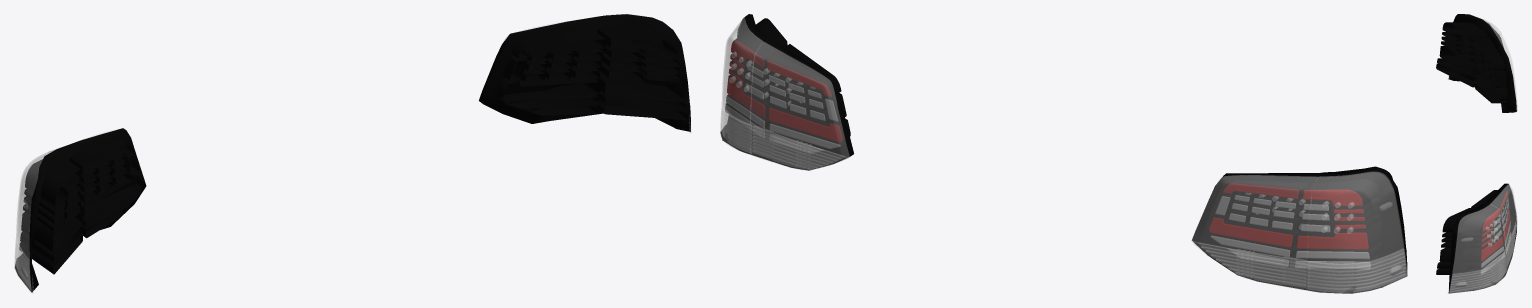
File: стопитемні.glb
The picture shows the model from 3 angles, left to right: view 1: azimuth 30°, elevation 25°; view 2: azimuth 150°, elevation 25°; view 3: azimuth 270°, elevation 25°; orthographic projection. The views are drawn at different scales.
Parts seen in each view (by area): view 1: black, window; view 2: window, black, grey, red light; view 3: black, window, red light, grey.
Part boxes in pixels (left/top/right/bottom): black: left=14, top=14, right=690, bottom=292; window: left=14, top=14, right=691, bottom=293; window: left=720, top=17, right=1407, bottom=293; black: left=720, top=14, right=1407, bottom=293; grey: left=725, top=63, right=1370, bottom=268; red light: left=727, top=40, right=1368, bottom=249; black: left=1436, top=14, right=1516, bottom=293; window: left=1448, top=16, right=1517, bottom=293; red light: left=1481, top=191, right=1510, bottom=261; grey: left=1481, top=198, right=1510, bottom=274.
Bounding box in the file's own units: 2.18 × 0.3444 × 0.3502.
